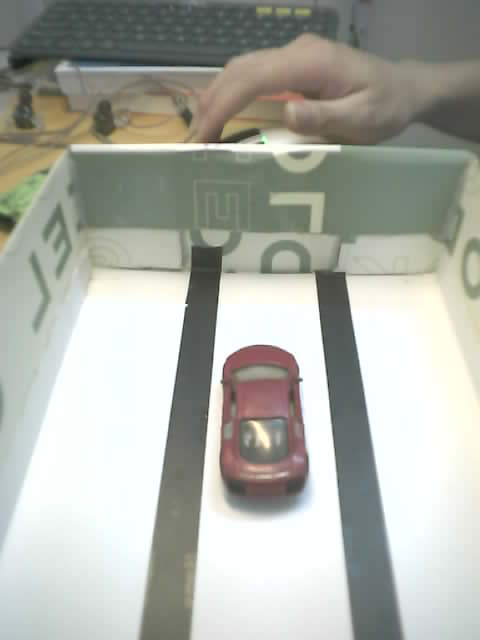vehicle: (219, 344, 310, 518)
